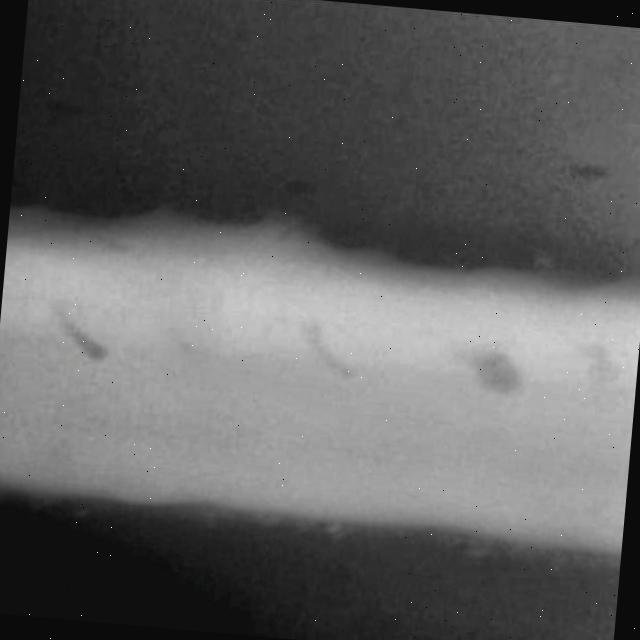Pore: (268, 297, 366, 396), (30, 287, 124, 389), (452, 326, 532, 404)
